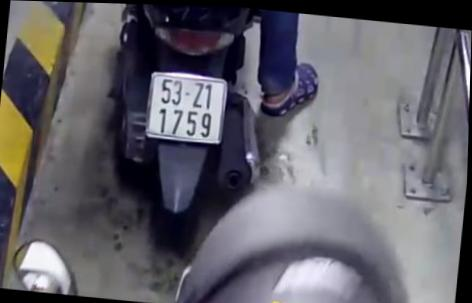LP: (143, 66, 231, 147)
